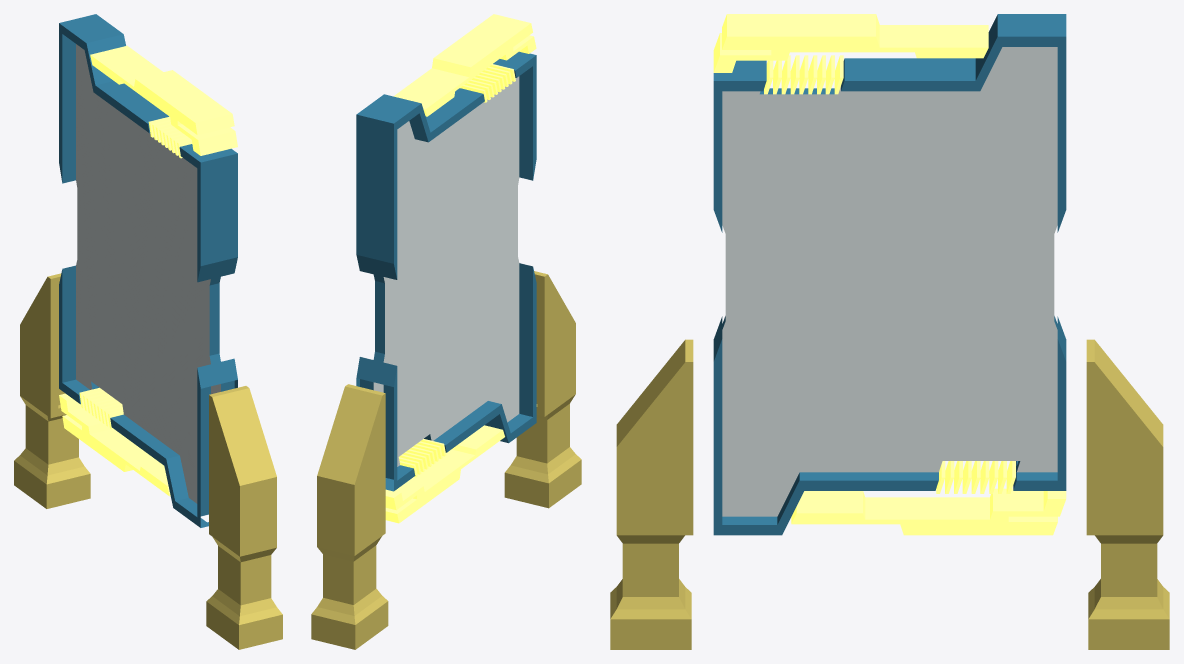
Rendered from Artefak Poster Potrait BEN VR GBL & GBL.fbx.
The picture shows the model from 3 angles, left to right: view 1: azimuth 30°, elevation 25°; view 2: azimuth 150°, elevation 25°; view 3: azimuth 270°, elevation 25°; orthographic projection. The views are drawn at different scales.
Parts seen in each view (by area): view 1: Poster_Potrait_MagneticField1; view 2: Poster_Potrait_MagneticField1; view 3: Poster_Potrait_MagneticField1.
Boxes of the visible parts, left/top/right/bottom form: Poster_Potrait_MagneticField1: left=14, top=14, right=282, bottom=649; Poster_Potrait_MagneticField1: left=311, top=14, right=581, bottom=649; Poster_Potrait_MagneticField1: left=610, top=14, right=1169, bottom=649.
Bounding box in the file's own units: 47.19 × 505 × 419.
